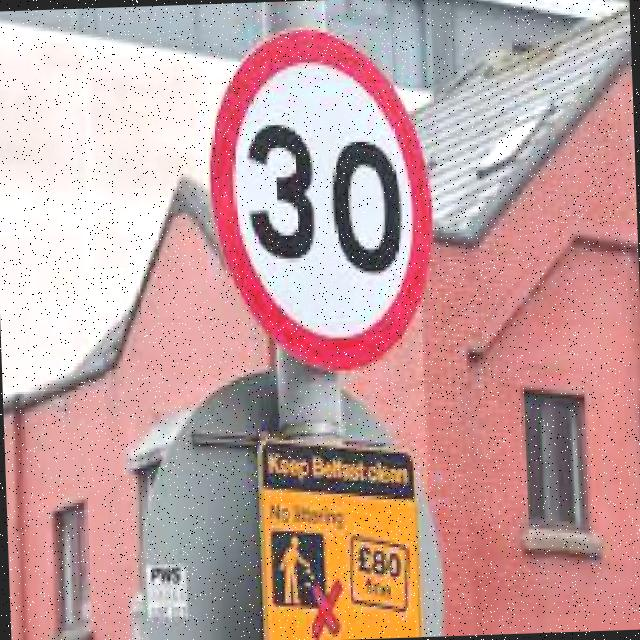Ograniczenie predkosci do 30: (206, 25, 442, 378)
